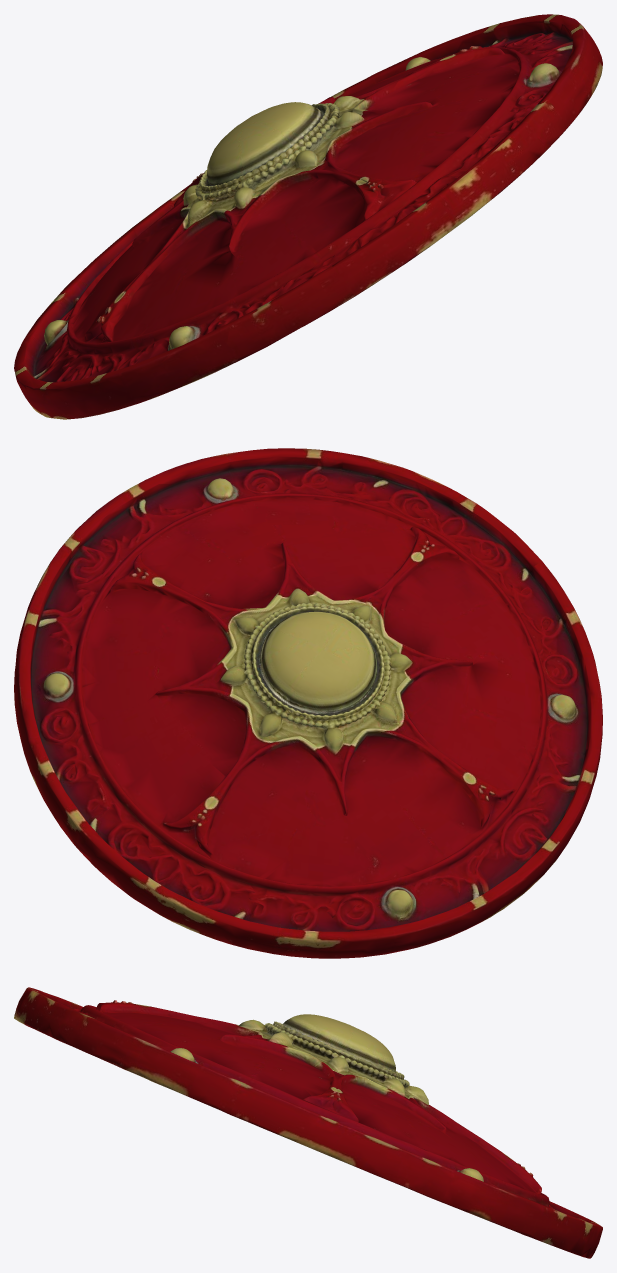
The model's file is scutum.glb.
3 views of the same model, one above another, from view 1: azimuth 30°, elevation 25°; view 2: azimuth 150°, elevation 25°; view 3: azimuth 270°, elevation 25° (orthographic). The views are drawn at different scales.
Parts seen in each view (by area): view 1: mesh_node; view 2: mesh_node; view 3: mesh_node.
Part boxes in pixels (bbox=[...]): mesh_node: bbox=[14, 14, 602, 419]; mesh_node: bbox=[14, 448, 602, 958]; mesh_node: bbox=[14, 987, 602, 1258].
Size of the model in its own units: 103 by 63.21 by 103.
Materials: 1 (1 with a texture image).
